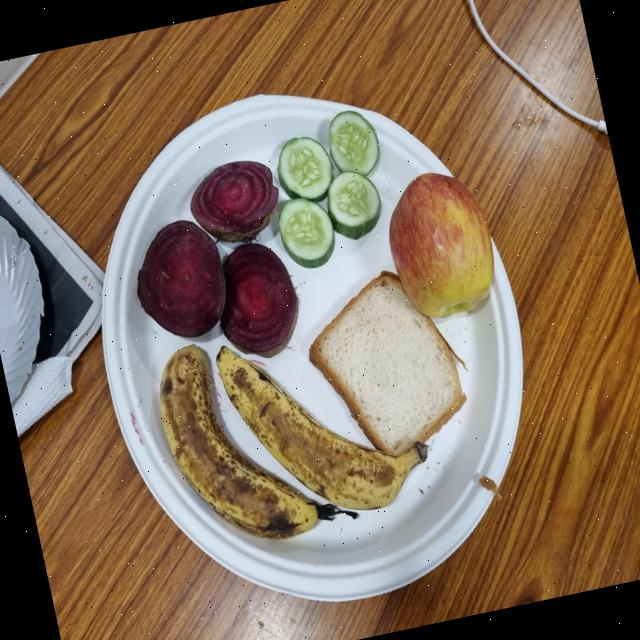apple: (386, 173, 495, 322)
banana: (213, 348, 427, 513), (157, 348, 324, 540)
cucumber: (273, 197, 336, 270), (276, 137, 335, 212), (324, 168, 382, 243), (328, 111, 381, 179)
